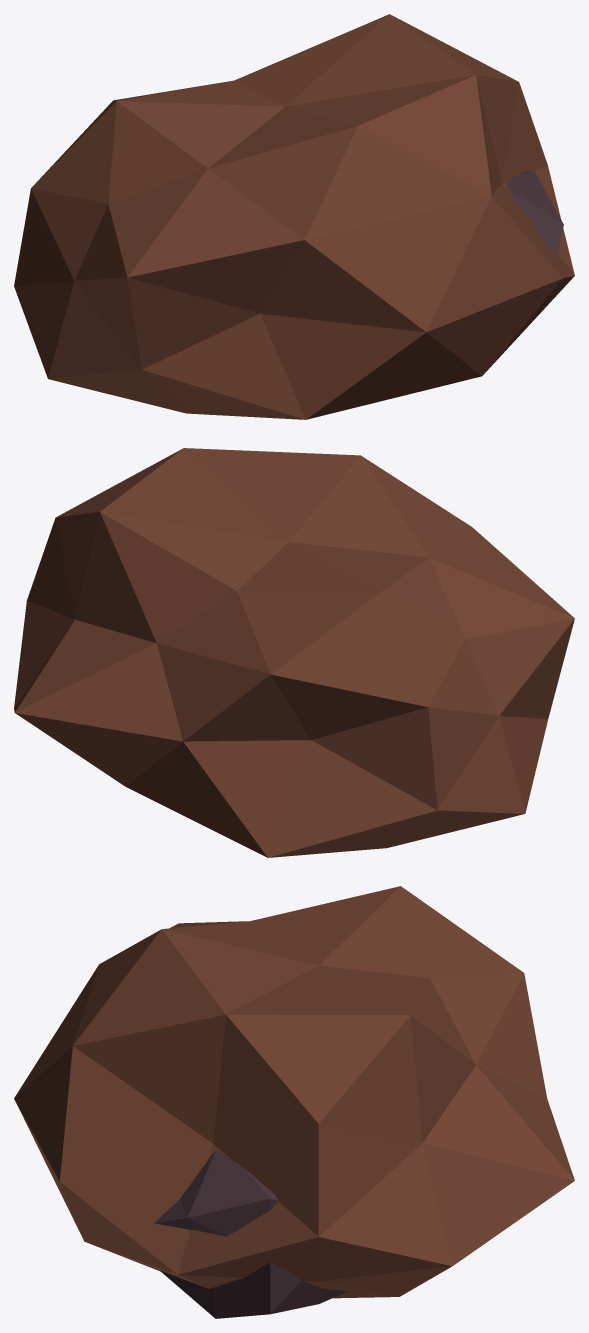
The model's file is RockC.fbx.
The picture shows the model from 3 angles, top to bottom: view 1: azimuth 30°, elevation 25°; view 2: azimuth 150°, elevation 25°; view 3: azimuth 270°, elevation 25°; orthographic projection. The views are drawn at different scales.
Parts seen in each view (by area): view 1: SM_RockC_MAT_RockRust, SM_RockC_MAT_Rock; view 2: SM_RockC_MAT_RockRust; view 3: SM_RockC_MAT_RockRust, SM_RockC_MAT_Rock.
Boxes of the visible parts, x1=… form: SM_RockC_MAT_RockRust: x1=14, y1=14, x2=574, y2=419; SM_RockC_MAT_Rock: x1=506, y1=170, x2=563, y2=256; SM_RockC_MAT_RockRust: x1=14, y1=448, x2=574, y2=857; SM_RockC_MAT_RockRust: x1=14, y1=886, x2=574, y2=1298; SM_RockC_MAT_Rock: x1=154, y1=1151, x2=348, y2=1318.
Bounding box in the file's own units: 2.35 × 1.24 × 2.11.
